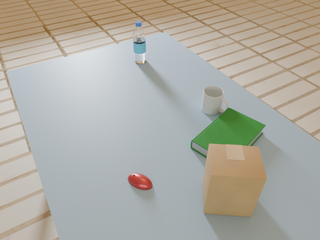book: (191, 108, 266, 158)
bottle: (133, 21, 146, 64)
box: (203, 144, 267, 217)
cup: (201, 86, 228, 115)
mouse: (128, 173, 152, 190)
